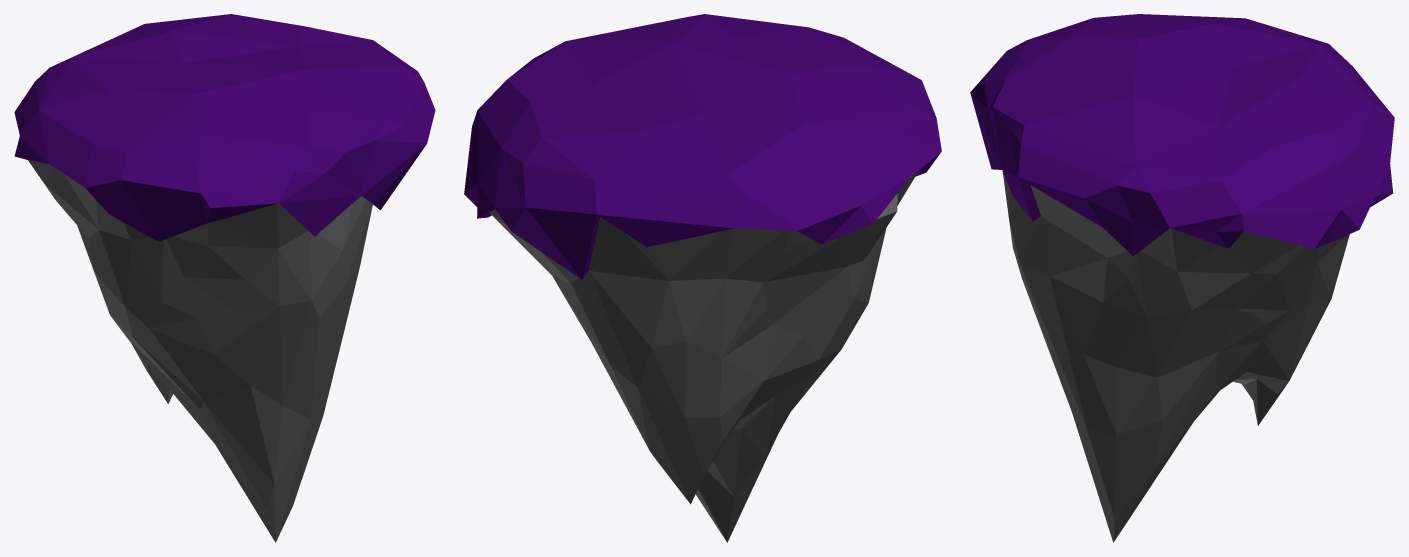
The model's file is Floating Island 4.fbx.
The picture shows the model from 3 angles, left to right: view 1: azimuth 30°, elevation 25°; view 2: azimuth 150°, elevation 25°; view 3: azimuth 270°, elevation 25°; orthographic projection. The views are drawn at different scales.
Parts seen in each view (by area): view 1: Icosphere.003; view 2: Icosphere.003; view 3: Icosphere.003.
Part boxes in pixels (x1,y1,x2,y2): Icosphere.003: (14, 14, 435, 542); Icosphere.003: (464, 14, 941, 542); Icosphere.003: (970, 14, 1394, 542).
Size of the model in its own units: 566 by 668 by 548.
